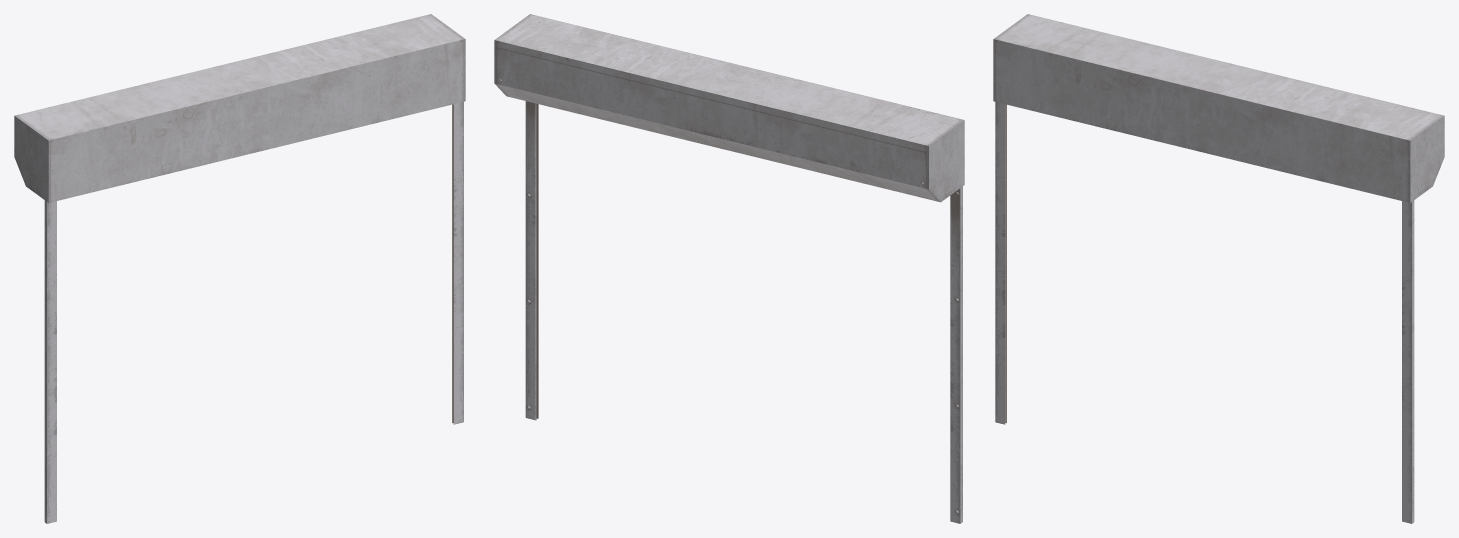
Rendered from Rollershutter_O.fbx.
The picture shows the model from 3 angles, left to right: view 1: azimuth 30°, elevation 25°; view 2: azimuth 150°, elevation 25°; view 3: azimuth 330°, elevation 25°; orthographic projection. The views are drawn at different scales.
Visible parts, largest first — view 1: Rollershutter_O; view 2: Rollershutter_O; view 3: Rollershutter_O.
Part boxes in pixels (x1=…): Rollershutter_O: x1=14, y1=14, x2=465, y2=523; Rollershutter_O: x1=494, y1=14, x2=964, y2=523; Rollershutter_O: x1=993, y1=14, x2=1444, y2=523.
Bounding box in the file's own units: 290 × 255 × 41.61.
